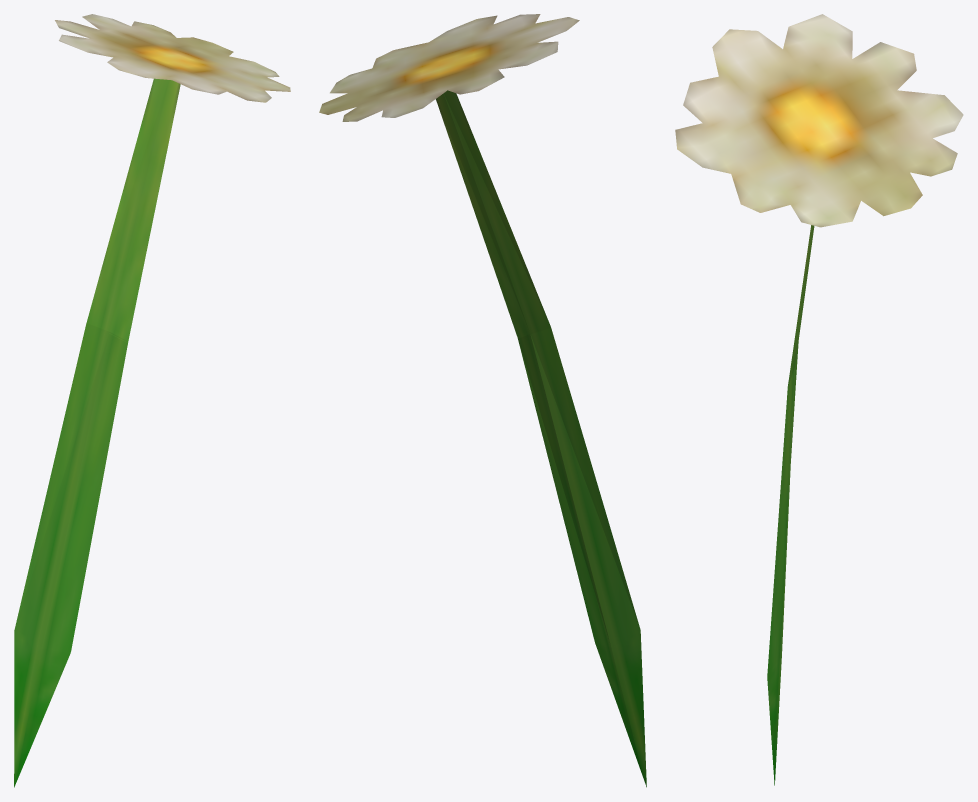
Rendered from hua_01.FBX.
3 renders of one model, left to right at view 1: azimuth 30°, elevation 25°; view 2: azimuth 150°, elevation 25°; view 3: azimuth 270°, elevation 25°, orthographic. The views are drawn at different scales.
Visible parts, largest first — view 1: hua_01; view 2: hua_01; view 3: hua_01.
Part boxes in pixels (left/top/right/bottom): hua_01: left=14, top=14, right=290, bottom=787; hua_01: left=319, top=14, right=646, bottom=787; hua_01: left=675, top=14, right=963, bottom=785.
Bounding box in the file's own units: 0.9465 × 2.3 × 0.741.
